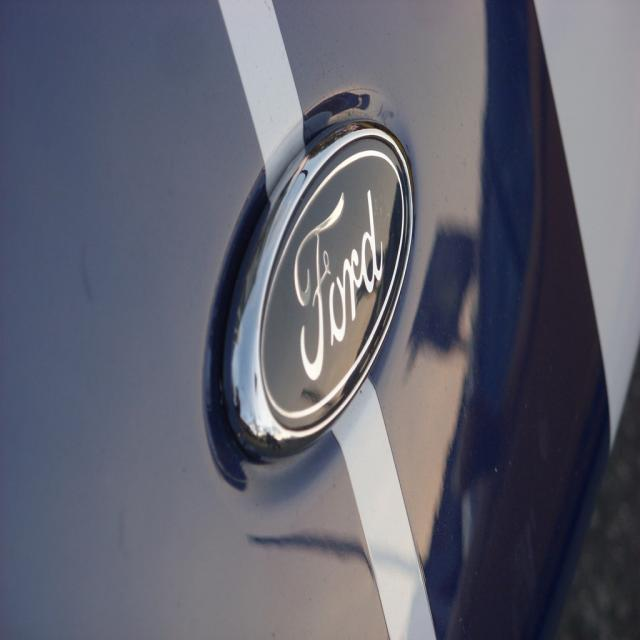ford: (217, 125, 417, 466)
